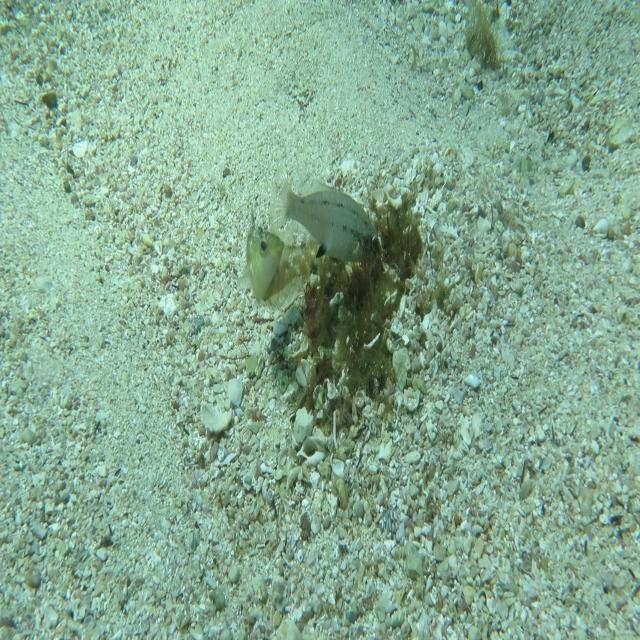BEND: (235, 205, 338, 316)
core_nest: (346, 227, 400, 283)
female: (267, 166, 385, 268)
nest: (270, 174, 430, 441)
